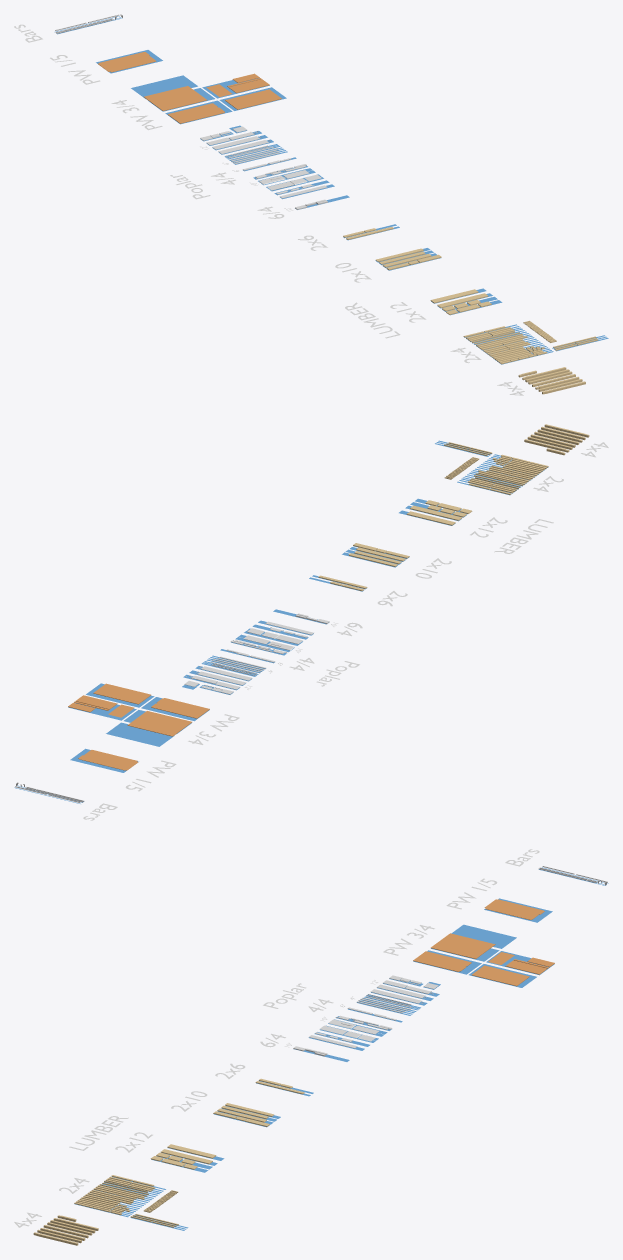
The model's file is cutlist.glb.
The picture shows the model from 3 angles, top to bottom: view 1: azimuth 30°, elevation 25°; view 2: azimuth 150°, elevation 25°; view 3: azimuth 330°, elevation 25°; orthographic projection. The views are drawn at different scales.
Parts seen in each view (by area): view 1: queen-platform.001, Plane.054, twin-platform-bottom.001, twin-platform-top.001, bed-platform.001; view 2: queen-platform.001, Plane.054, twin-platform-bottom.001, twin-platform-top.001, bed-platform.001; view 3: queen-platform.001, Plane.054, twin-platform-bottom.001, twin-platform-top.001, bed-platform.001.
Part boxes in pixels (bbox=[...]): queen-platform.001: bbox=[144, 86, 206, 110]; Plane.054: bbox=[131, 75, 197, 98]; twin-platform-bottom.001: bbox=[98, 52, 156, 72]; twin-platform-top.001: bbox=[167, 103, 224, 123]; bed-platform.001: bbox=[225, 89, 281, 109]; queen-platform.001: bbox=[127, 711, 191, 736]; Plane.054: bbox=[106, 722, 174, 746]; twin-platform-bottom.001: bbox=[78, 750, 138, 770]; twin-platform-top.001: bbox=[151, 698, 209, 718]; bed-platform.001: bbox=[93, 683, 150, 704]; queen-platform.001: bbox=[431, 933, 495, 958]; Plane.054: bbox=[451, 924, 516, 948]; twin-platform-bottom.001: bbox=[484, 899, 544, 919]; twin-platform-top.001: bbox=[413, 951, 471, 971]; bed-platform.001: bbox=[472, 965, 529, 986].
Size of the model in its own units: 7.99 by 0.1559 by 40.82.
